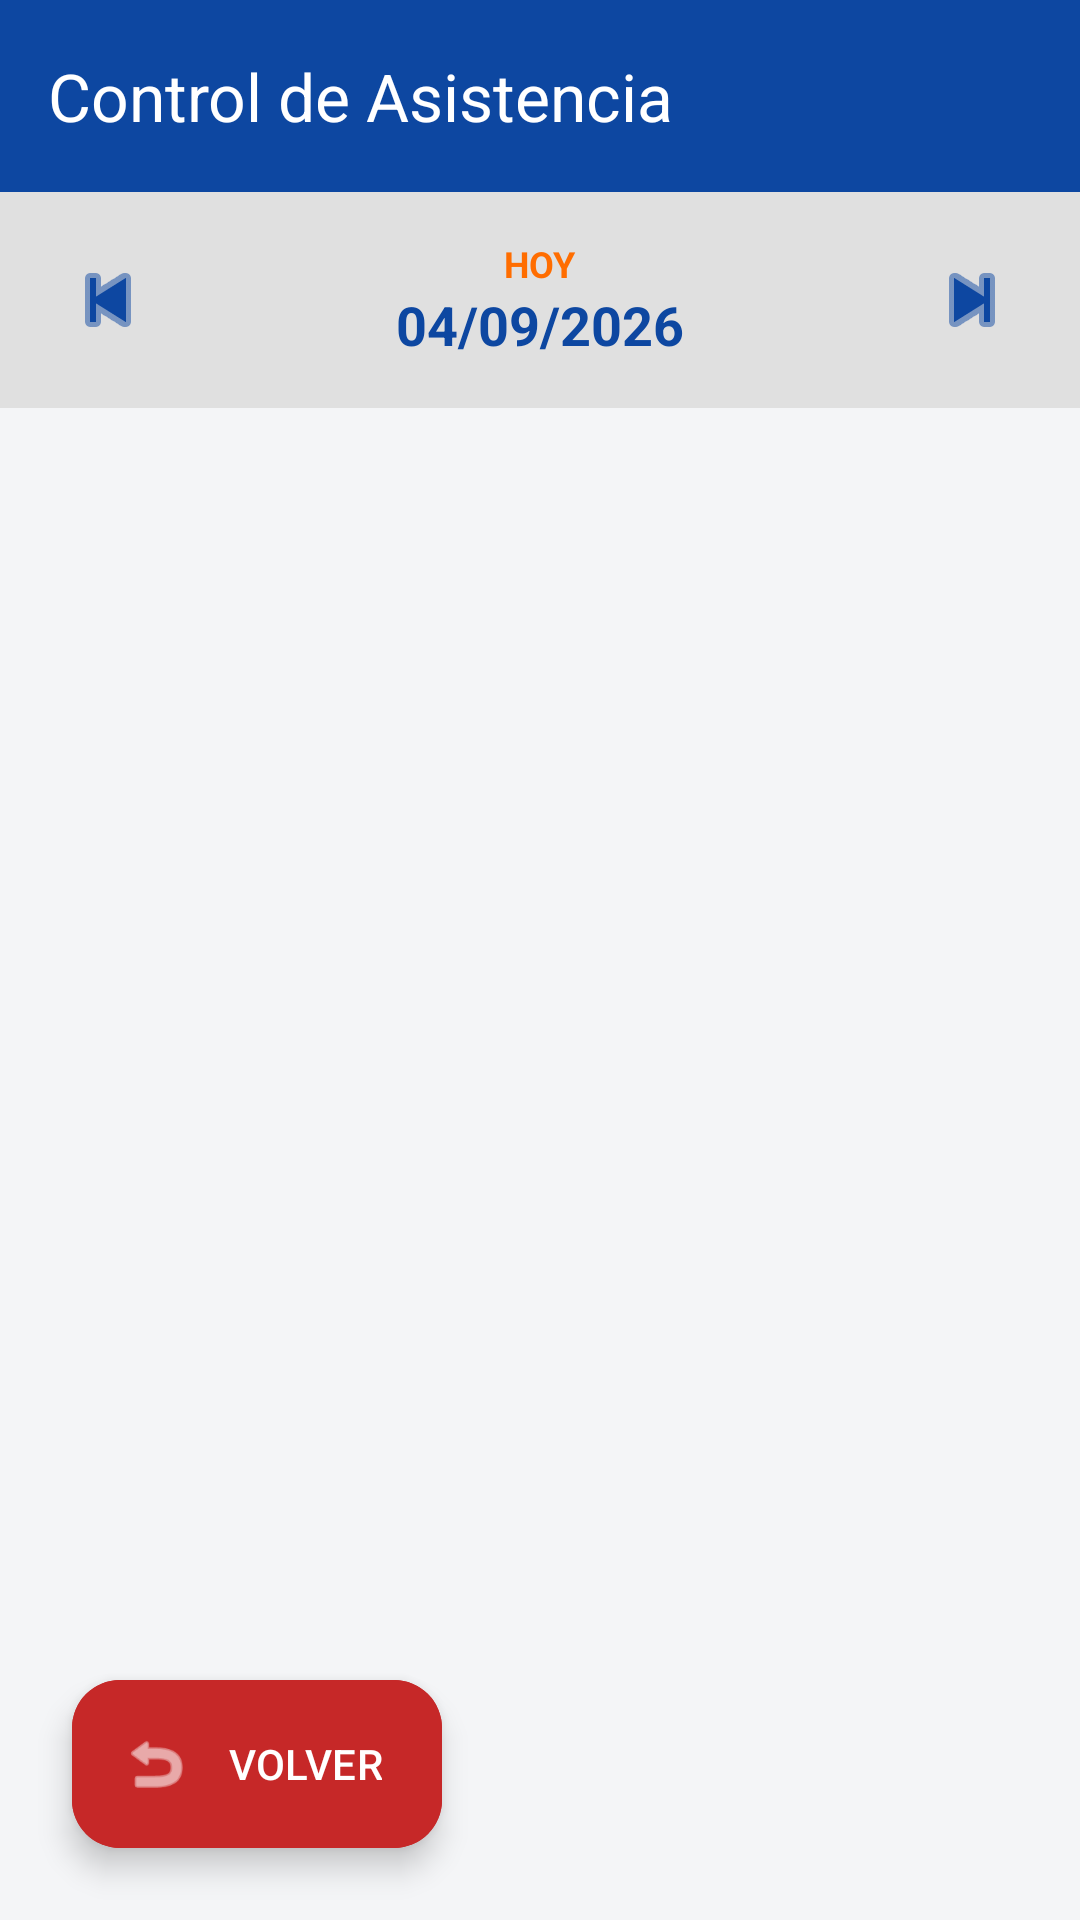

Locate icon controls on the screen. Image size 1080px×1920px, boxes as (left=x1, top=y1, right=x2, bottom=y2).
next: (left=949, top=273, right=995, bottom=327)
previous: (left=85, top=273, right=131, bottom=327)
